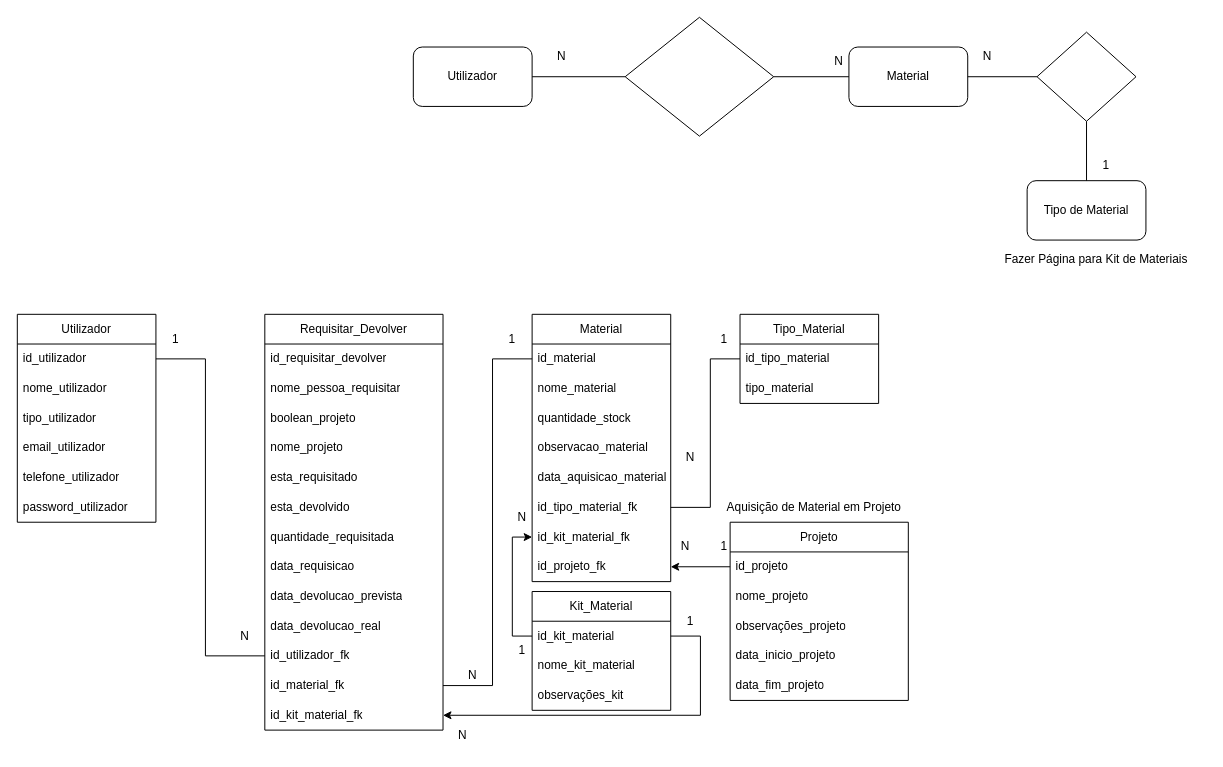
This 1223x767 diagram has some shape labels left out. The centre of each missing label's shape, as x and y in pixels:
Possui: the point at 1086,76
Requistar/Devolver: the point at 699,76
